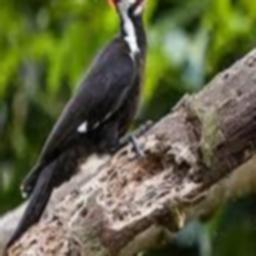Woodpecker: (1, 0, 181, 253)
